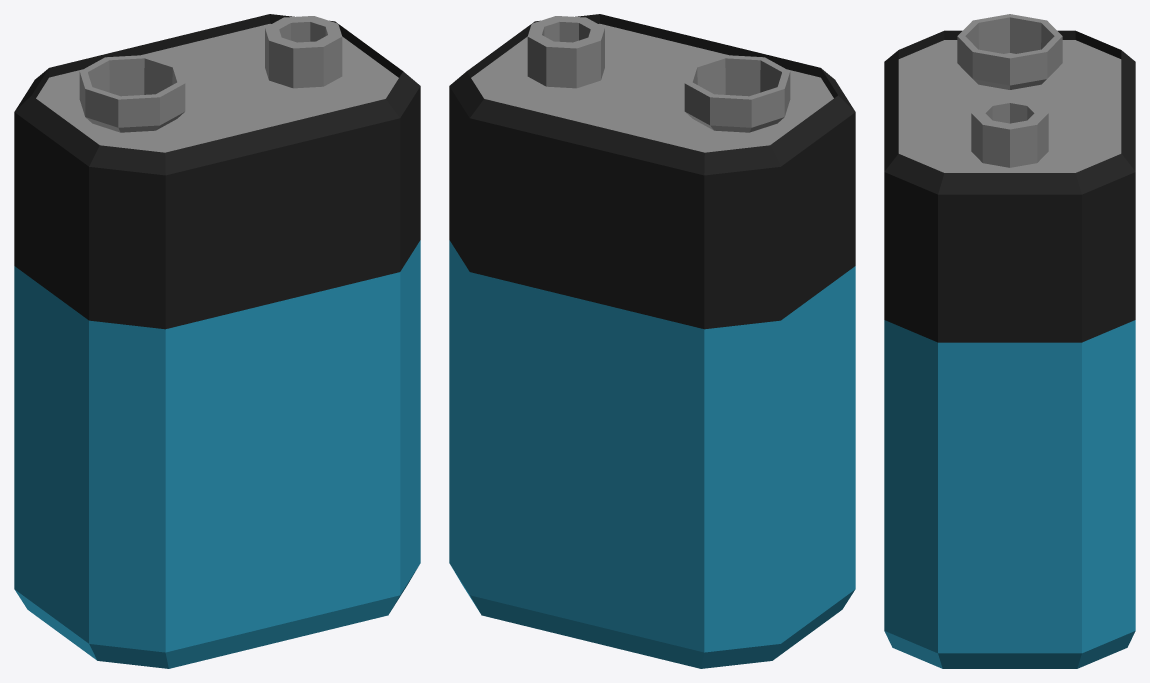
Rendered from Battery_1_vc.fbx.
3 renders of one model, left to right at view 1: azimuth 30°, elevation 25°; view 2: azimuth 150°, elevation 25°; view 3: azimuth 270°, elevation 25°, orthographic. The views are drawn at different scales.
Parts seen in each view (by area): view 1: Battery_1_vc; view 2: Battery_1_vc; view 3: Battery_1_vc.
Boxes of the visible parts, x1,y1,x2,y2 form: Battery_1_vc: [14, 14, 420, 668]; Battery_1_vc: [449, 14, 855, 668]; Battery_1_vc: [884, 14, 1135, 668].
Size of the model in its own units: 3.04 by 4.78 by 2.08.
